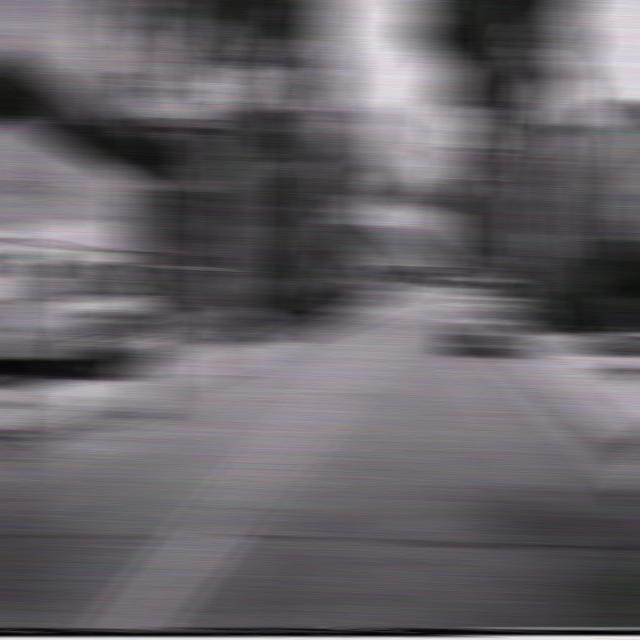pedestrianCrossing: (460, 248, 490, 264)
